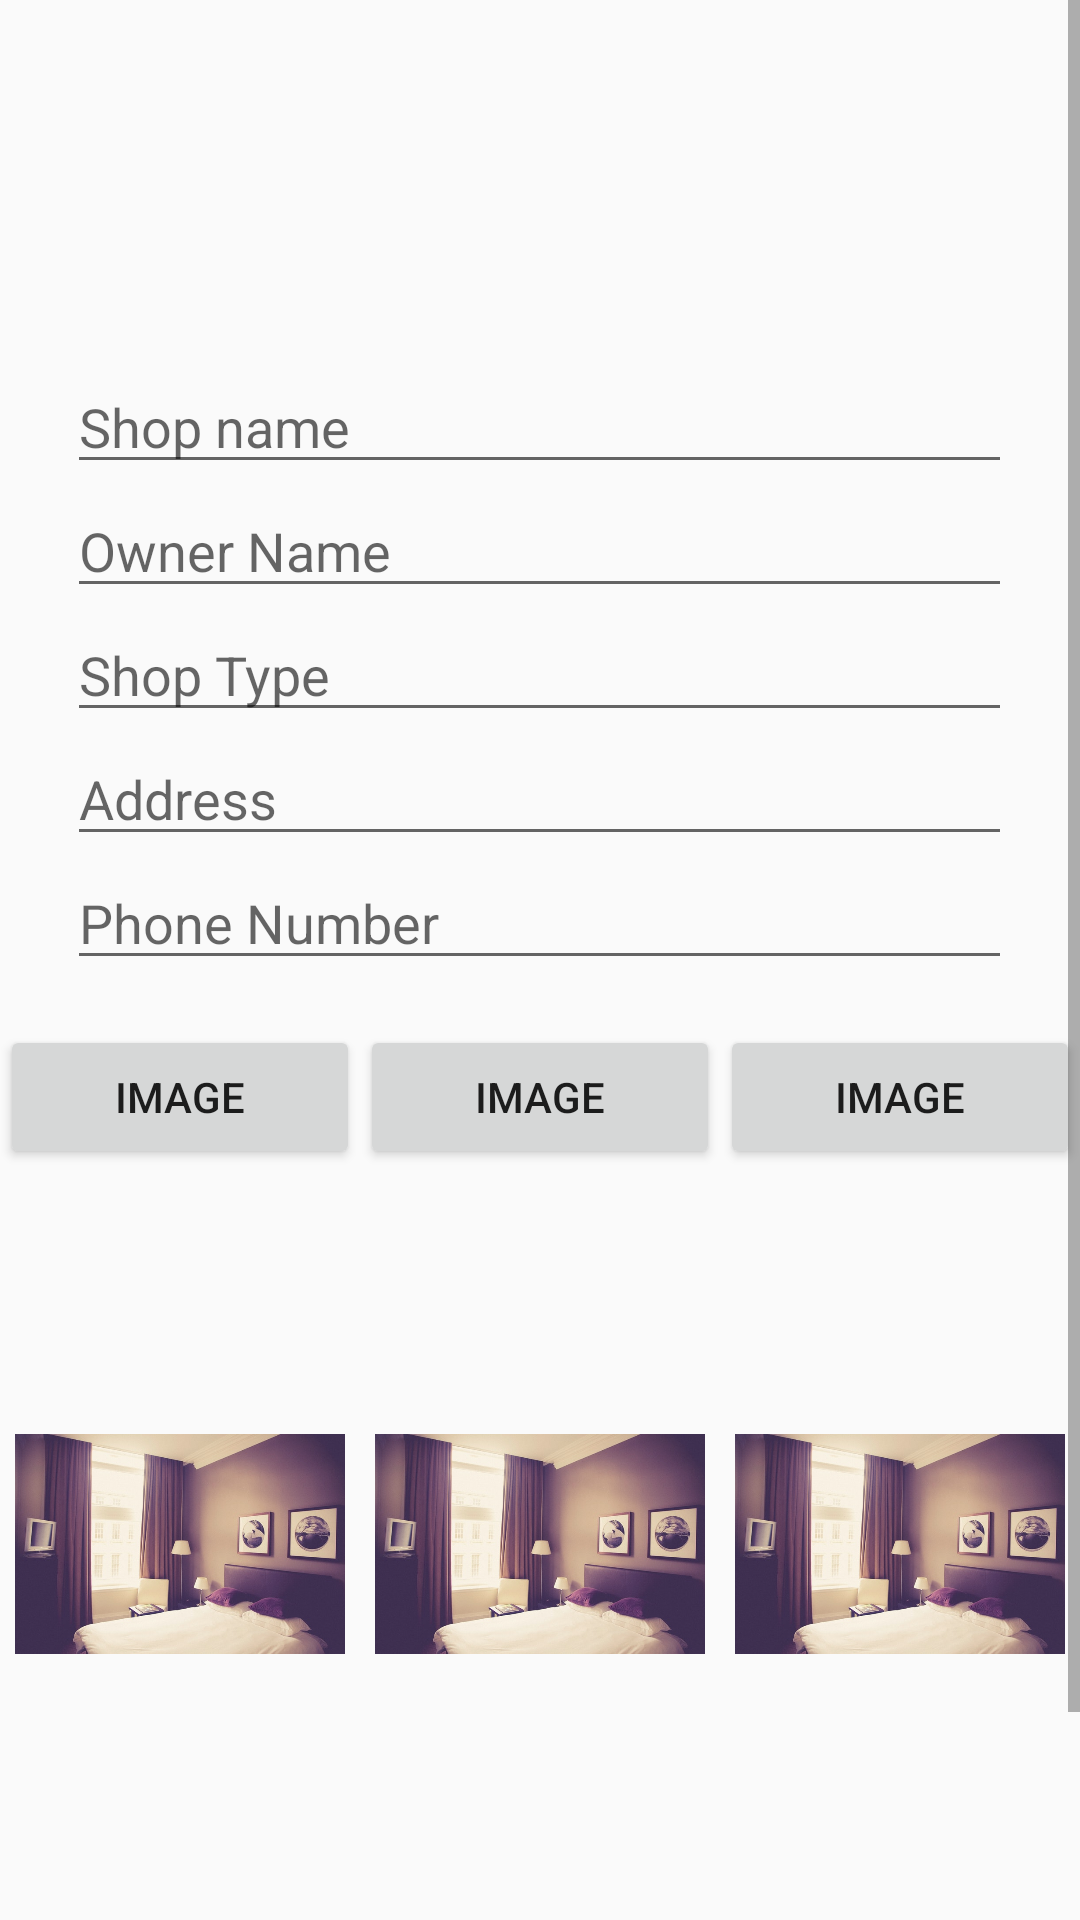

Icon bounding boxes for this 1080px×1920px phone screenshot, format (x1, y1, x2, y2):
hotel: (15, 1434, 345, 1654), (375, 1434, 705, 1654), (735, 1434, 1065, 1654)
